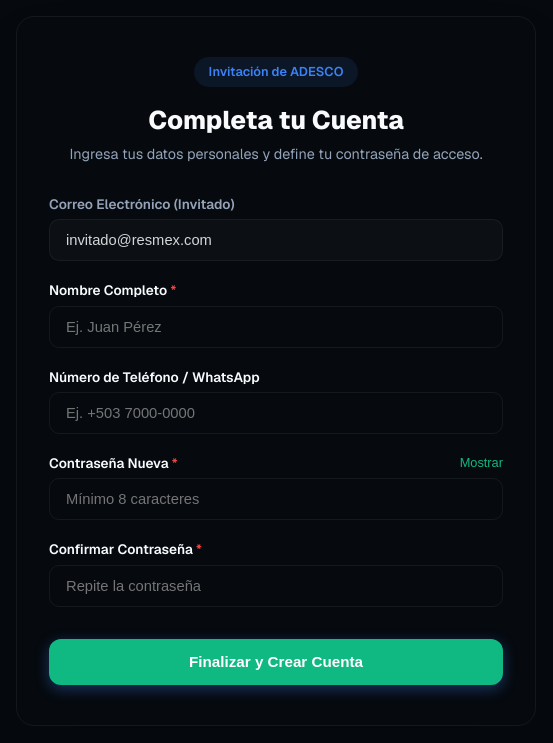
it: CompletarRegistroPage Component › permite al usuario completar su nombre, teléfono y contraseña cuando la invitación es válida
This screenshot has width=553, height=743.
Check: the heading "Completa tu Cuenta" is shown, box top-left (148, 103), bottom-right (404, 137)
Check: the field showing "invitado@resmex.com" is shown, box top-left (49, 219), bottom-right (503, 261)
Type "Juan Pérez" into the field with placeholder "Ej. Juan Pérez".
click(276, 327); type("Juan Pérez")  # box top-left (49, 306), bottom-right (503, 348)
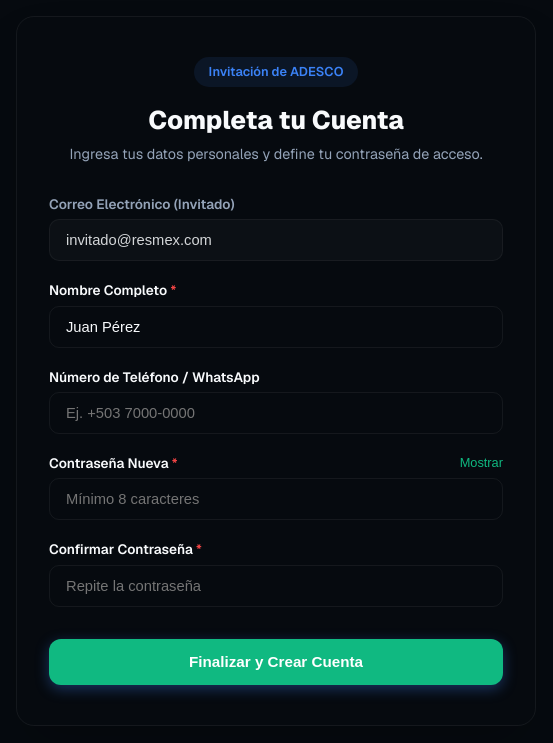
Type "+503 7000-1111" into the field with placeholder "Ej. +503 7000-0000".
click(276, 413); type("+503 7000-1111")  # box top-left (49, 392), bottom-right (503, 434)
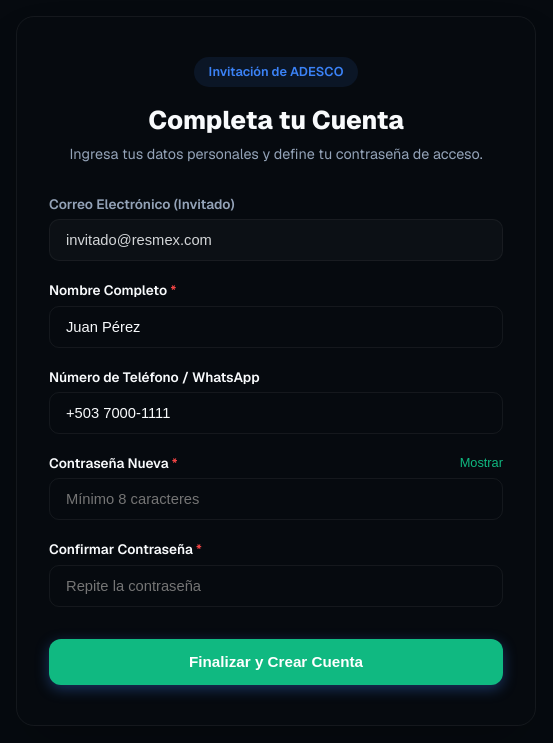
Type "password123" into the password field with placeholder "Mínimo 8 caracteres".
click(276, 499); type("password123")  # box top-left (49, 478), bottom-right (503, 520)
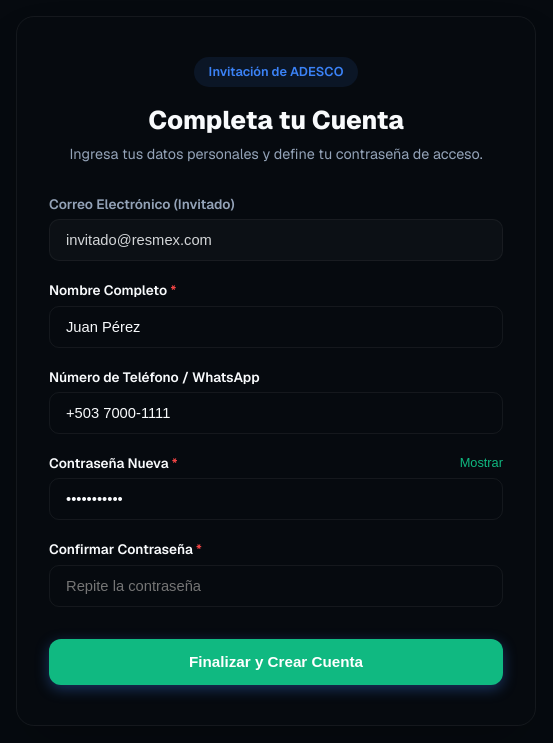
Type "password123" into the password field with placeholder "Repite la contraseña".
click(276, 586); type("password123")  # box top-left (49, 565), bottom-right (503, 607)
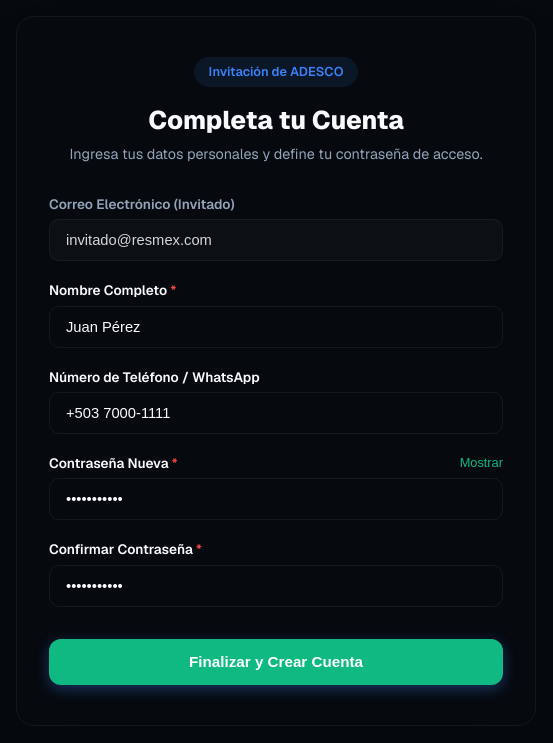
Click the button "Finalizar y Crear Cuenta".
click(276, 662)  # box top-left (49, 639), bottom-right (503, 684)
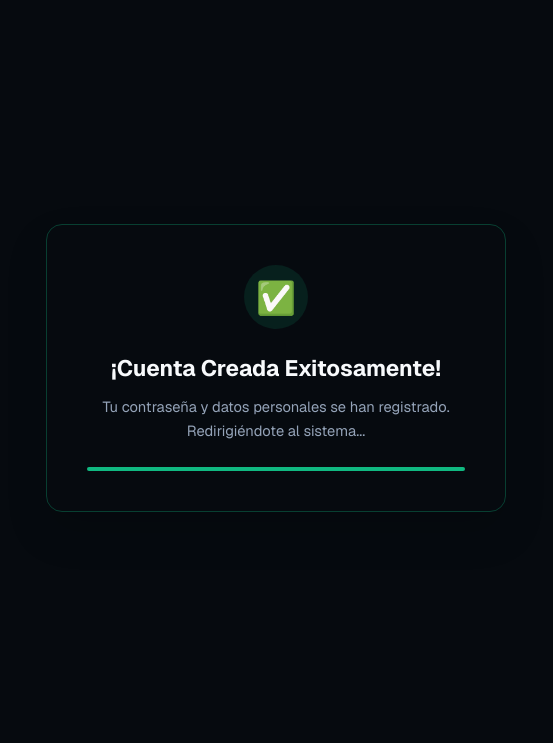
Check: the heading "¡Cuenta Creada Exitosamente!" is shown, box top-left (87, 354), bottom-right (465, 384)
